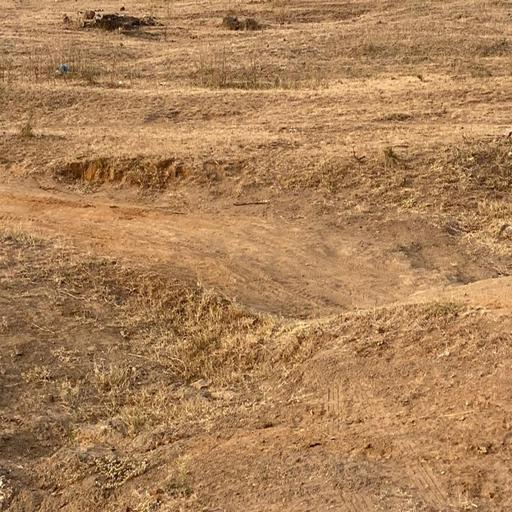vehicle_track: (0, 184, 418, 316)
